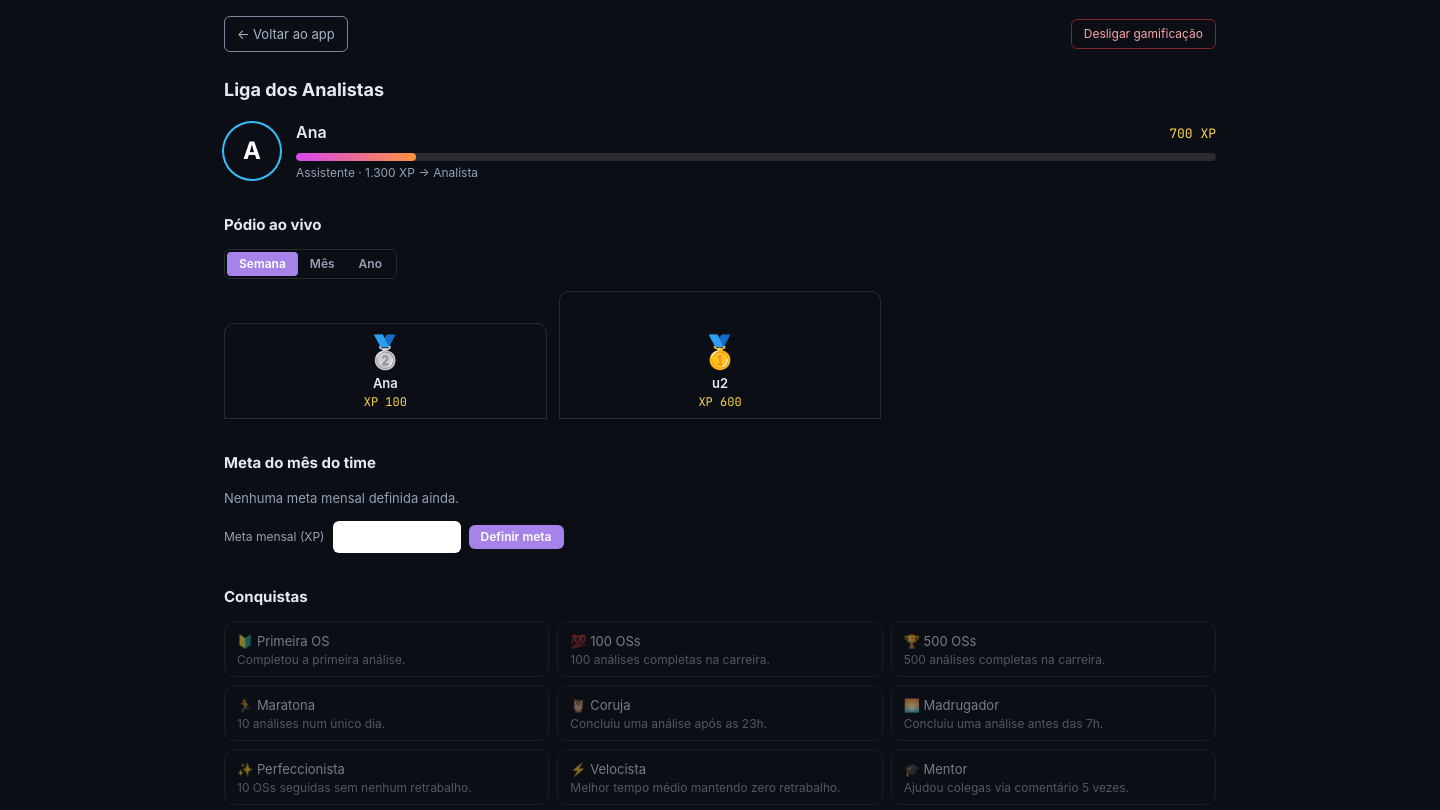
Test: LeaguePanel — seção Meta do mês (modo time C4) › admin define meta 400: total líquido 200 → 50%, faltam 200, barra aria-valuenow=50
In the number field labelled "Meta mensal (XP)": (396, 537) [332,521,460,553], type "400"
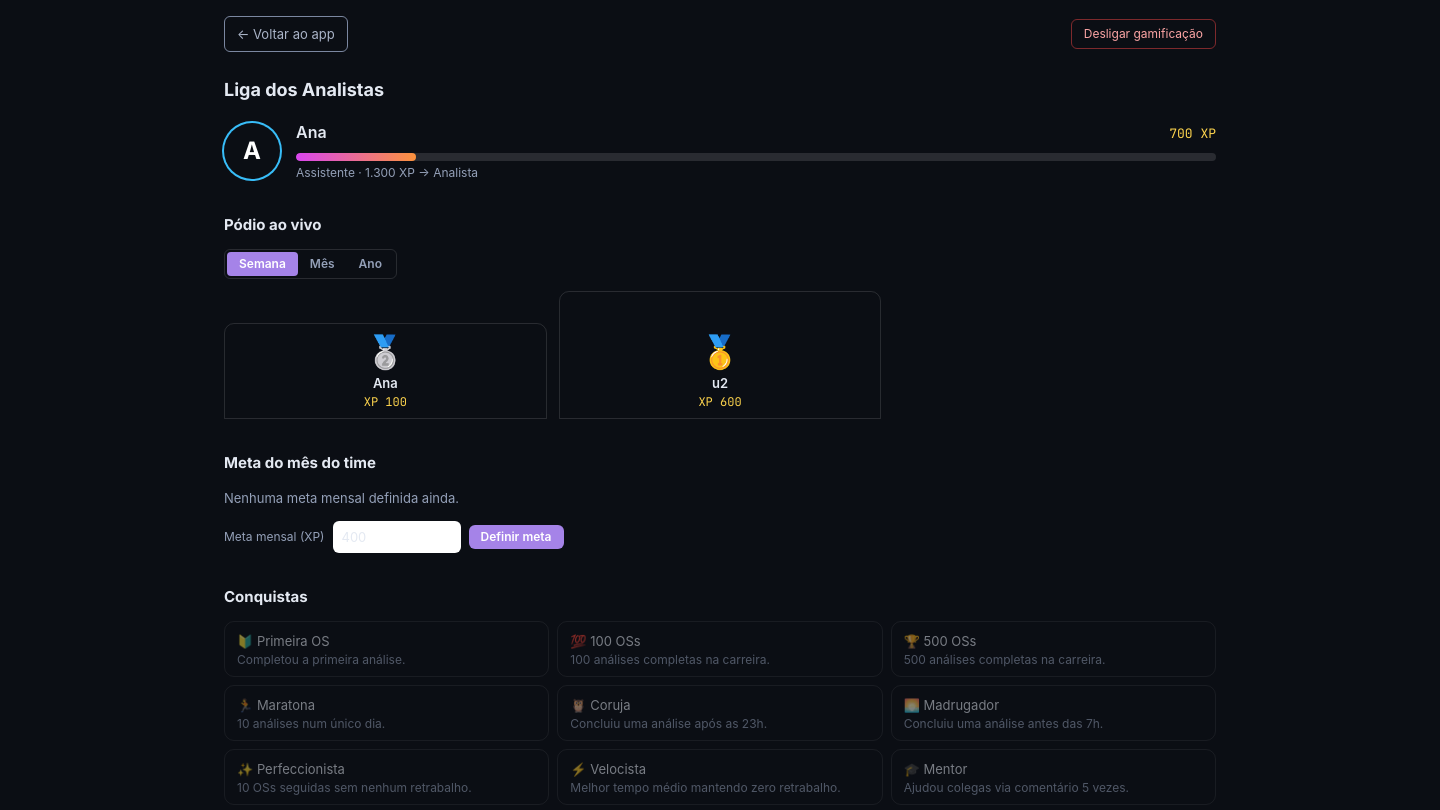
Submit the form with test id "league-team-form", box [224,521,564,553]
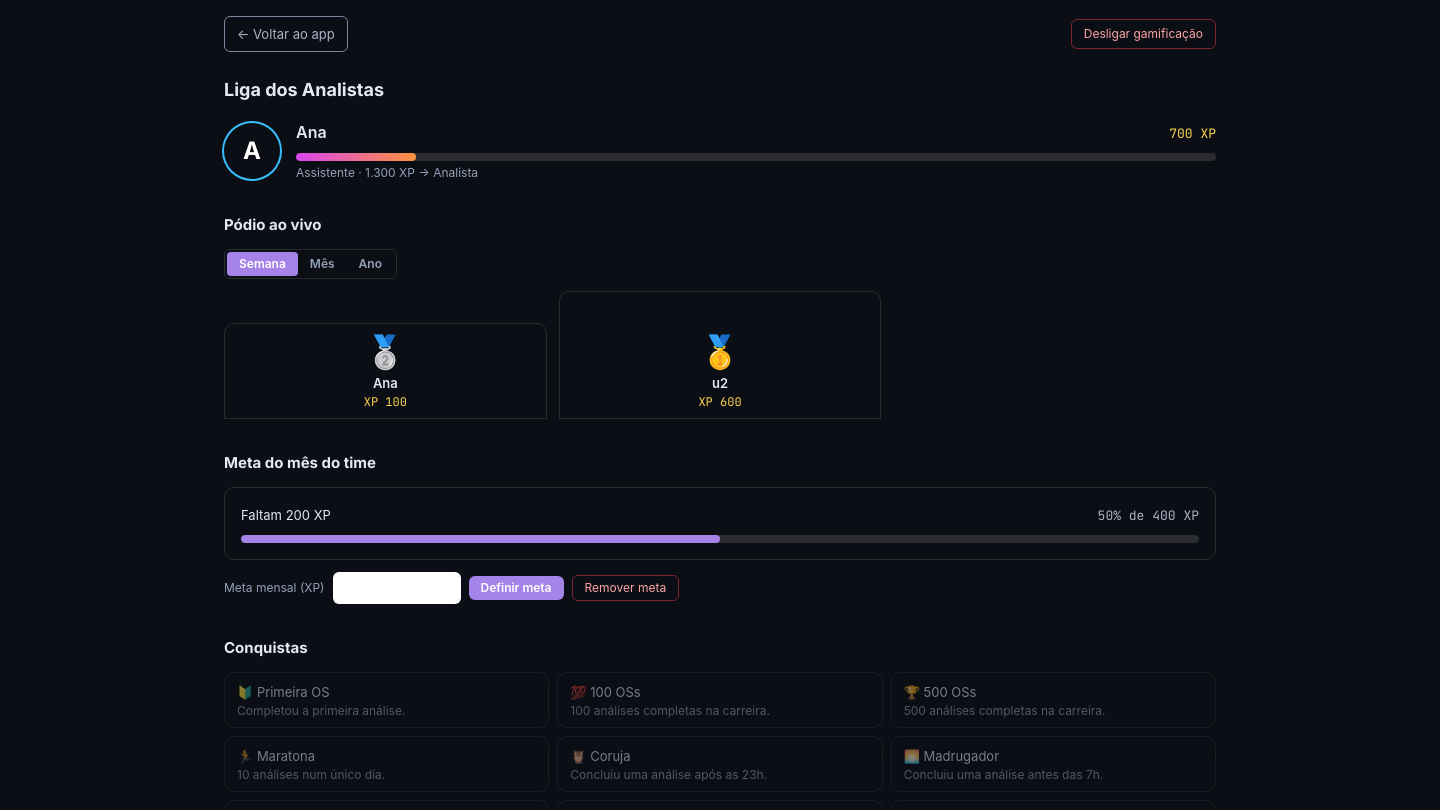
Now the element with test id "league-team-progress" shows "50% de 400 XP", box [1098,507,1199,524]
Now the element with test id "league-team-progress" shows "Faltam 200 XP", box [241,507,331,523]
